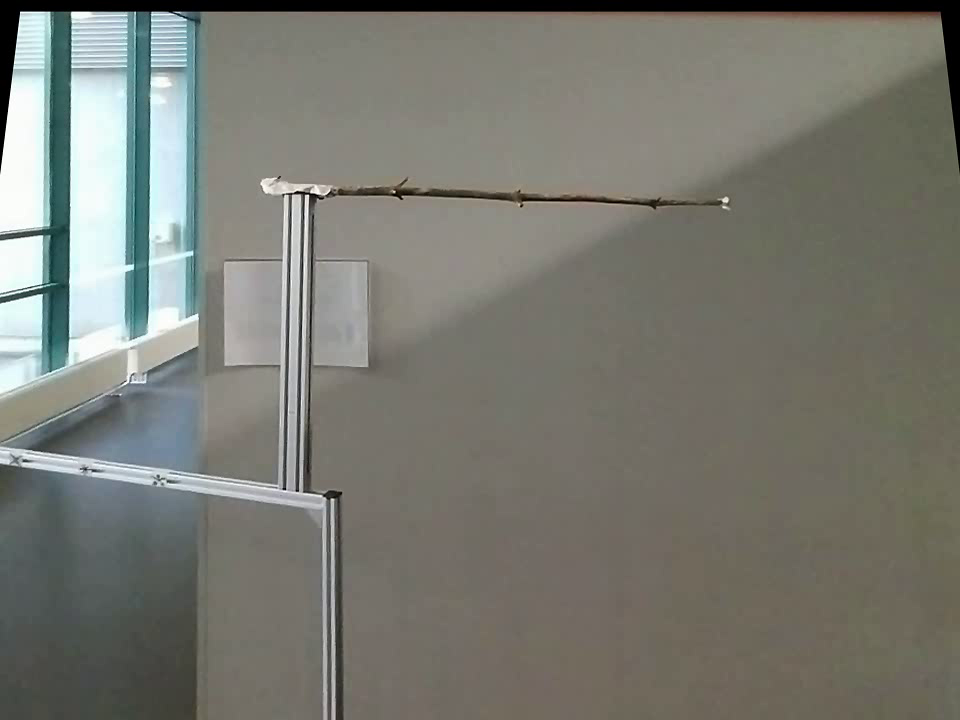aluminum_frame: (1, 442, 326, 513), (274, 197, 317, 496), (316, 484, 346, 718)
branch: (336, 170, 710, 216)
